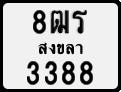letters: (50, 10, 70, 34), (32, 9, 47, 36), (79, 59, 94, 86), (72, 10, 88, 35), (26, 59, 40, 86), (44, 59, 58, 86), (61, 60, 76, 85)
province: (37, 41, 84, 55)
